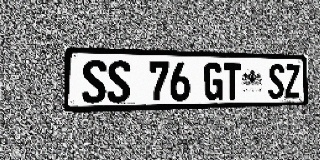6: (170, 62, 190, 101)
7: (148, 61, 169, 102)
G: (204, 62, 223, 100)
S: (82, 60, 106, 103), (107, 60, 130, 103), (268, 64, 284, 99)
T: (223, 63, 241, 100)
Z: (285, 64, 300, 98)
